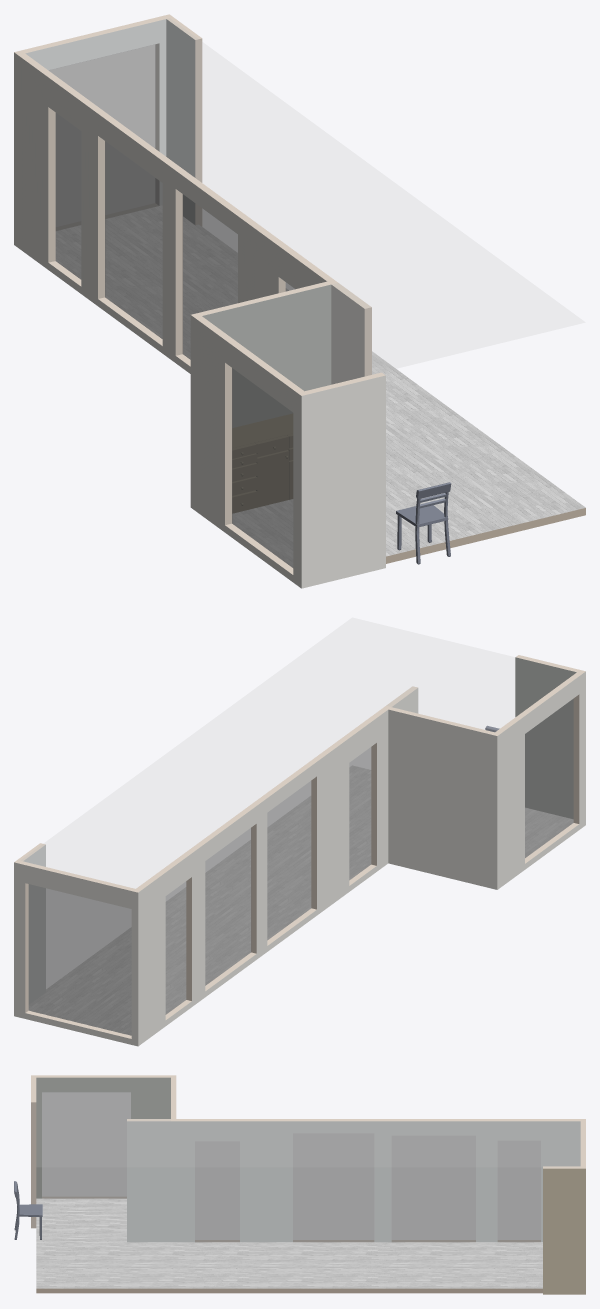
The picture shows the model from 3 angles, top to bottom: view 1: azimuth 30°, elevation 25°; view 2: azimuth 150°, elevation 25°; view 3: azimuth 270°, elevation 25°; orthographic projection. The views are drawn at different scales.
Parts seen in each view (by area): view 1: ceiling_Other_1, floor_Other_1 (×2), wall_5 (×3), door_4 (×2), door_1 (×2), wall_2, ceiling_Other_2, wall_0 (×3), door_5 (×2), door_2 (×2), wall_4, door_0 (×2) (+6 smaller); view 2: ceiling_Other_1, door_5 (×2), wall_5 (×3), floor_Other_1, wall_4, door_4 (×2), door_1 (×2), door_2 (×2), ceiling_Other_2, wall_0 (×2), wall_2, wall_1 (×2) (+4 smaller); view 3: floor_Other_1 (×2), ceiling_Other_1, wall_5 (×3), door_4 (×2), door_1 (×2), door_2 (×2), door_3 (×2), door_0 (×2), ceiling_Other_2, wall_3, wall_6, wall_0 (×2) (+3 smaller).
Part boxes in pixels (box(x1,y1,x2,y2)): ceiling_Other_1: box(26, 18, 584, 357); floor_Other_1 (×2): box(56, 205, 585, 550); wall_5 (×3): box(14, 52, 337, 373); door_4 (×2): box(232, 368, 292, 567); door_1 (×2): box(105, 141, 162, 338); wall_2: box(301, 375, 385, 588); ceiling_Other_2: box(203, 283, 439, 390); wall_0 (×3): box(190, 315, 304, 588); door_5 (×2): box(49, 43, 159, 150); door_2 (×2): box(183, 194, 237, 359); wall_4: box(202, 284, 331, 427); door_0 (×2): box(56, 113, 80, 278); ceiling_Other_1: box(21, 618, 466, 887); door_5 (×2): box(29, 884, 131, 1035); wall_5 (×3): box(136, 706, 391, 1045); floor_Other_1: box(29, 765, 370, 1035); wall_4: box(388, 709, 497, 889); door_4 (×2): box(525, 699, 573, 857); door_1 (×2): box(205, 828, 250, 985); door_2 (×2): box(267, 781, 310, 939); ceiling_Other_2: box(387, 646, 575, 731); wall_0 (×2): box(497, 671, 585, 889); wall_2: box(515, 657, 576, 818); wall_1 (×2): box(14, 862, 138, 1046); floor_Other_1 (×2): box(36, 1242, 542, 1293); ceiling_Other_1: box(37, 1122, 579, 1166); wall_5 (×3): box(171, 1119, 585, 1242); door_4 (×2): box(42, 1092, 130, 1198); door_1 (×2): box(392, 1136, 475, 1241); door_2 (×2): box(293, 1133, 373, 1241); door_3 (×2): box(195, 1141, 239, 1241); door_0 (×2): box(498, 1141, 540, 1241); ceiling_Other_2: box(37, 1078, 170, 1120); wall_3: box(543, 1168, 585, 1294); wall_6: box(127, 1121, 170, 1242); wall_0 (×2): box(31, 1075, 175, 1198).
Bounding box in the file's own units: 4.11 × 2.59 × 10.66.
Materials: 12 (2 with a texture image).
